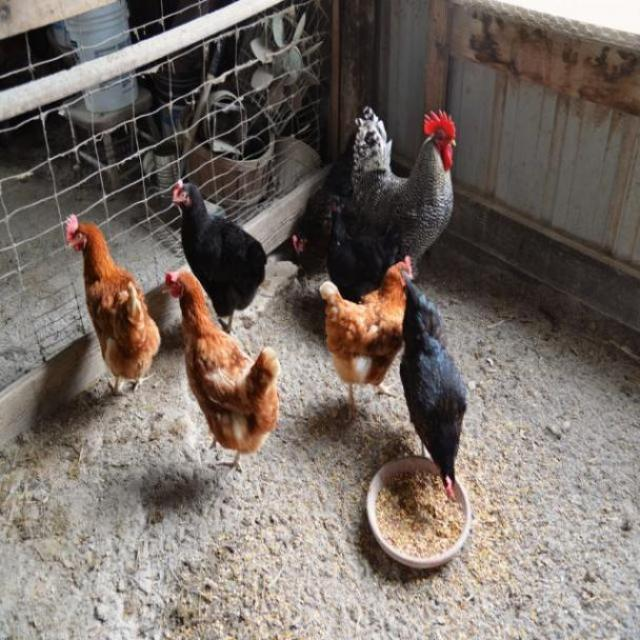Chicken: (159, 260, 280, 488), (395, 260, 478, 513), (311, 240, 421, 421), (65, 211, 158, 415), (350, 102, 462, 269), (172, 177, 275, 344)
